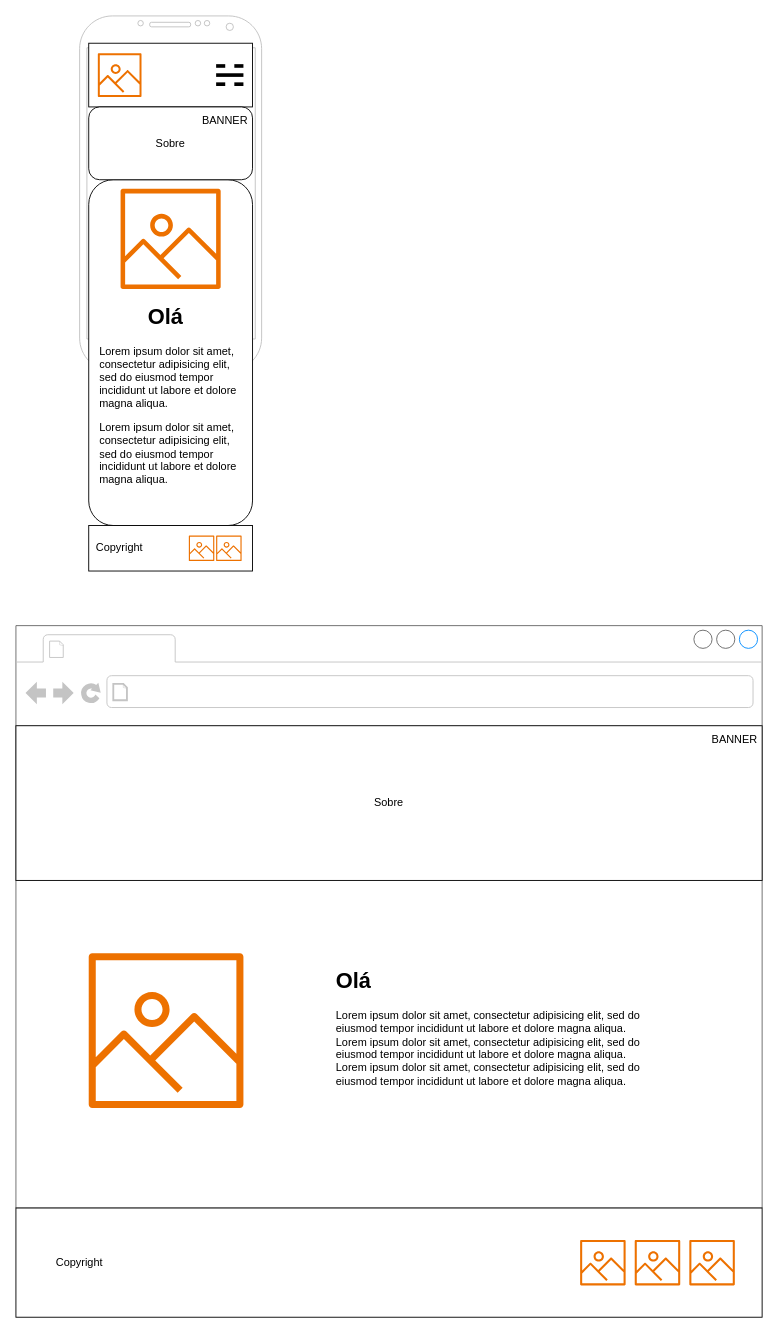
This 778x1333 diagram has some shape labels left out. Here are the shapes that lost their labels. From the top down, the box of each, then its label:
(70, 636, 171, 660): Page 1
(133, 679, 362, 704): https://www.draw.io
